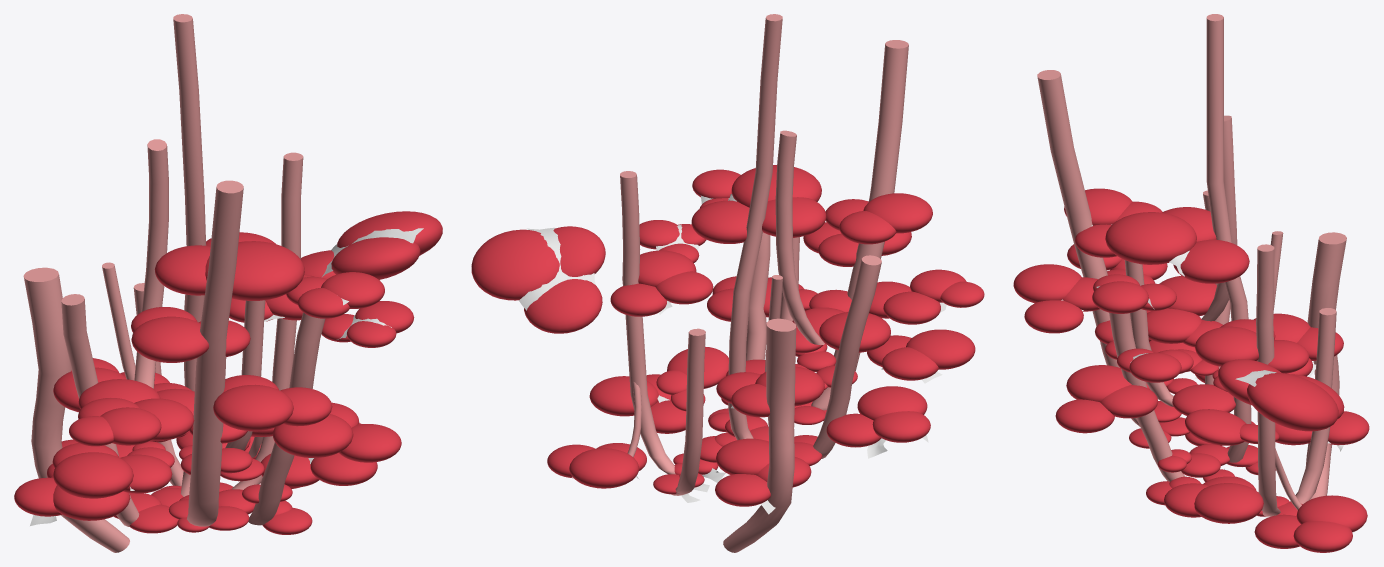
File: 碰撞盒4.FBX
3 views of the same model, side by side, from view 1: azimuth 30°, elevation 25°; view 2: azimuth 150°, elevation 25°; view 3: azimuth 270°, elevation 25° (orthographic). The views are drawn at different scales.
Parts seen in each view (by area): view 1: Sphere__24_, Cylinder003, Cylinder001, Cylinder005, Cylinder007, Cylinder010, Cylinder008, Cylinder002, Cylinder011, Cylinder009, Plane001, Cylinder006; view 2: Sphere__24_, Cylinder005, Cylinder001, Cylinder003, Cylinder007, Cylinder002, Cylinder010, Cylinder006, Plane001, Cylinder008; view 3: Sphere__24_, Cylinder005, Cylinder003, Cylinder007, Cylinder001, Cylinder006, Cylinder008, Cylinder010, Cylinder011, Plane001, Cylinder012, Cylinder009.
Part boxes in pixels (bbox=[...]): Sphere__24_: bbox=[14, 211, 442, 534]; Cylinder003: bbox=[187, 180, 243, 526]; Cylinder001: bbox=[23, 267, 129, 552]; Cylinder005: bbox=[173, 14, 206, 496]; Cylinder007: bbox=[232, 152, 303, 489]; Cylinder010: bbox=[134, 139, 168, 388]; Cylinder008: bbox=[248, 312, 325, 525]; Cylinder002: bbox=[61, 294, 139, 526]; Cylinder011: bbox=[225, 300, 265, 450]; Cylinder009: bbox=[102, 262, 135, 380]; Plane001: bbox=[30, 228, 423, 525]; Cylinder006: bbox=[133, 283, 183, 486]; Sphere__24_: bbox=[471, 165, 984, 506]; Cylinder005: bbox=[728, 14, 782, 439]; Cylinder001: bbox=[723, 318, 796, 552]; Cylinder003: bbox=[811, 40, 908, 410]; Cylinder007: bbox=[620, 171, 675, 474]; Cylinder002: bbox=[813, 255, 881, 458]; Cylinder010: bbox=[775, 130, 824, 345]; Cylinder006: bbox=[671, 328, 705, 495]; Plane001: bbox=[519, 194, 946, 514]; Cylinder008: bbox=[746, 232, 770, 360]; Sphere__24_: bbox=[1013, 188, 1369, 552]; Cylinder005: bbox=[1206, 14, 1251, 462]; Cylinder003: bbox=[1037, 70, 1139, 426]; Cylinder007: bbox=[1256, 244, 1280, 516]; Cylinder001: bbox=[1305, 232, 1346, 499]; Cylinder006: bbox=[1290, 308, 1336, 503]; Cylinder008: bbox=[1109, 312, 1184, 481]; Cylinder010: bbox=[1201, 115, 1237, 321]; Cylinder011: bbox=[1124, 260, 1173, 406]; Plane001: bbox=[1061, 224, 1354, 532]; Cylinder012: bbox=[1275, 448, 1301, 510]; Cylinder009: bbox=[1270, 231, 1283, 309].
Size of the model in its own units: 1927 by 2223 by 1426.
